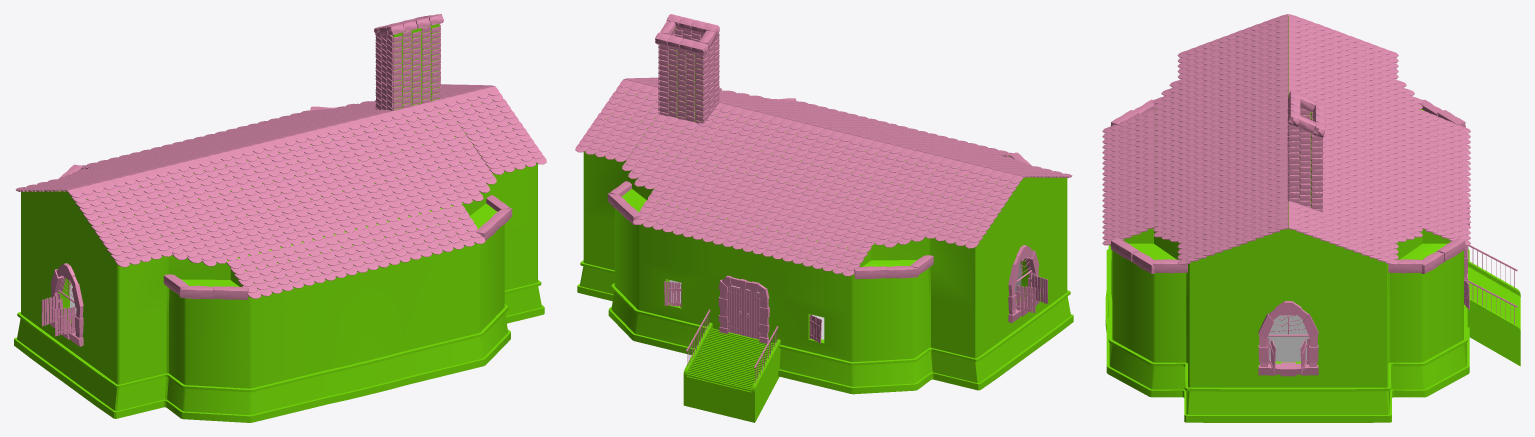
Rendered from House.fbx.
The picture shows the model from 3 angles, left to right: view 1: azimuth 30°, elevation 25°; view 2: azimuth 150°, elevation 25°; view 3: azimuth 270°, elevation 25°; orthographic projection. The views are drawn at different scales.
Parts seen in each view (by area): view 1: MainBuilding, Roof Tiling, FirePlaceWall, Edge Cubes, WindowRockFrame, ShuttersSide, FirePlaceRoof; view 2: MainBuilding, Roof Tiling, FirePlaceWall, Edge Cubes, FirePlaceRoof, Door, DoorRockFrame, WindowRockFrame, ShuttersSide, StepsHandles, ShuttersFront; view 3: Roof Tiling, MainBuilding, Edge Cubes, FirePlaceWall, WindowRockFrame, InteriorSide, FirePlaceRoof, StepsHandles.
Part boxes in pixels (x1,y1,x2,y2): MainBuilding: [14, 23, 544, 422]; Roof Tiling: [15, 84, 546, 298]; FirePlaceWall: [375, 24, 440, 110]; Edge Cubes: [60, 106, 512, 299]; WindowRockFrame: [50, 263, 83, 346]; ShuttersSide: [41, 294, 75, 336]; FirePlaceRoof: [374, 14, 443, 36]; MainBuilding: [577, 27, 1073, 422]; Roof Tiling: [575, 77, 1072, 276]; FirePlaceWall: [658, 28, 719, 123]; Edge Cubes: [607, 98, 1030, 279]; FirePlaceRoof: [655, 14, 719, 55]; Door: [727, 286, 760, 339]; DoorRockFrame: [718, 275, 769, 343]; WindowRockFrame: [1008, 245, 1039, 322]; ShuttersSide: [1016, 274, 1047, 312]; StepsHandles: [686, 309, 778, 382]; ShuttersFront: [664, 281, 821, 343]; Roof Tiling: [1102, 14, 1470, 264]; MainBuilding: [1105, 16, 1520, 422]; Edge Cubes: [1110, 99, 1465, 273]; FirePlaceWall: [1287, 102, 1322, 212]; WindowRockFrame: [1258, 301, 1318, 376]; InteriorSide: [1267, 315, 1309, 361]; FirePlaceRoof: [1288, 91, 1325, 137]; StepsHandles: [1466, 245, 1517, 324].
Size of the model in its own units: 404 by 309 by 255.
